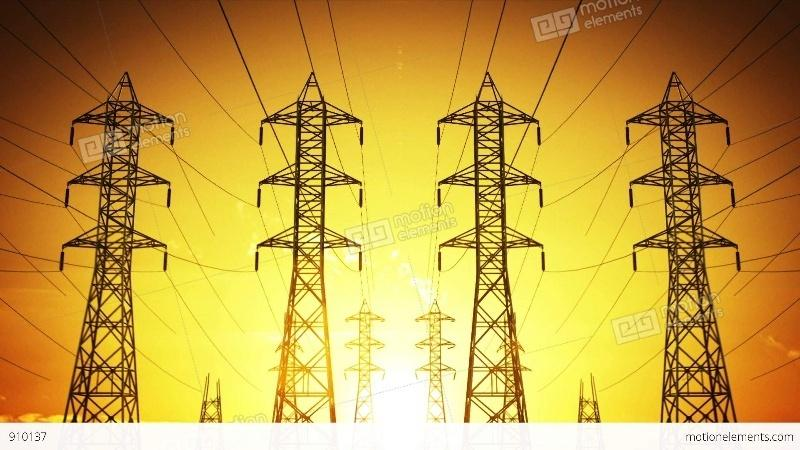power_tower: (627, 78, 747, 423), (54, 69, 163, 427), (437, 80, 541, 422), (255, 73, 350, 428), (409, 294, 458, 423), (345, 294, 381, 416)
